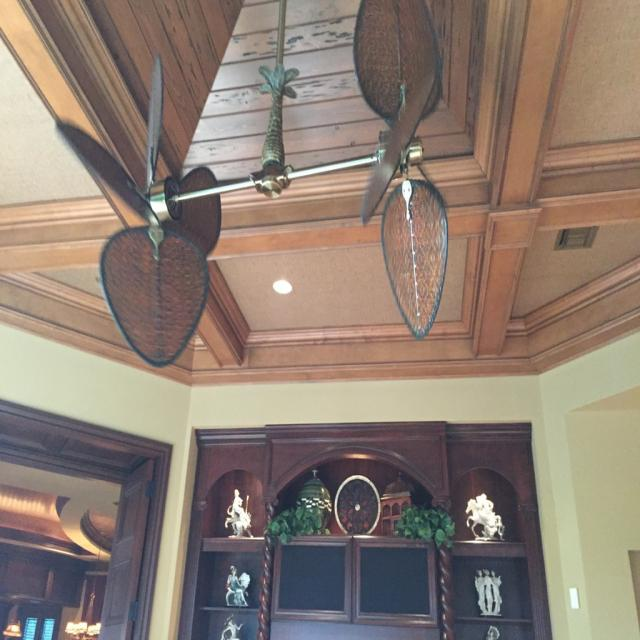Bulb: (59, 46, 220, 365)
